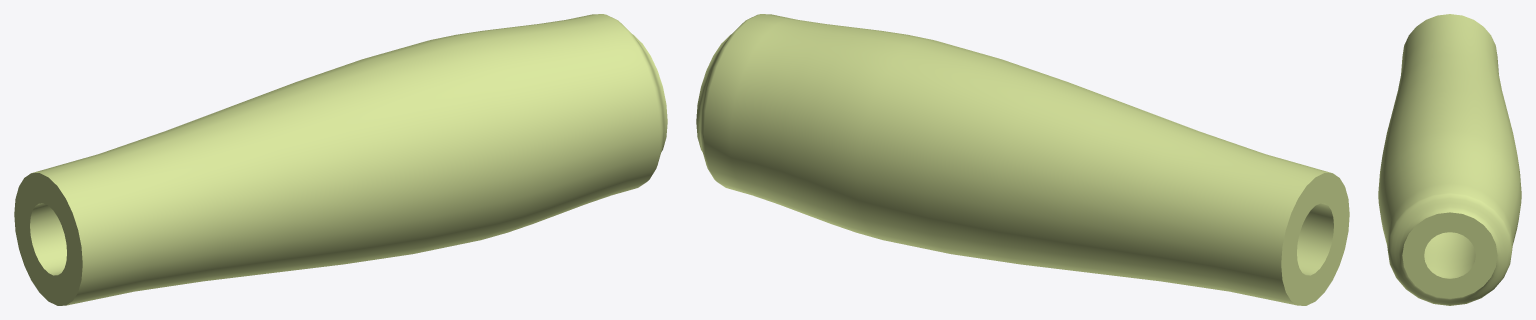
Rendered from missile.DAE.
3 renders of one model, left to right at view 1: azimuth 30°, elevation 25°; view 2: azimuth 150°, elevation 25°; view 3: azimuth 270°, elevation 25°, orthographic. The views are drawn at different scales.
Parts seen in each view (by area): view 1: Loft001; view 2: Loft001; view 3: Loft001.
Part boxes in pixels (left/top/right/bottom): Loft001: left=14, top=14, right=667, bottom=305; Loft001: left=696, top=14, right=1349, bottom=305; Loft001: left=1378, top=14, right=1521, bottom=305.
Size of the model in its own units: 60 by 18.36 by 18.36.
